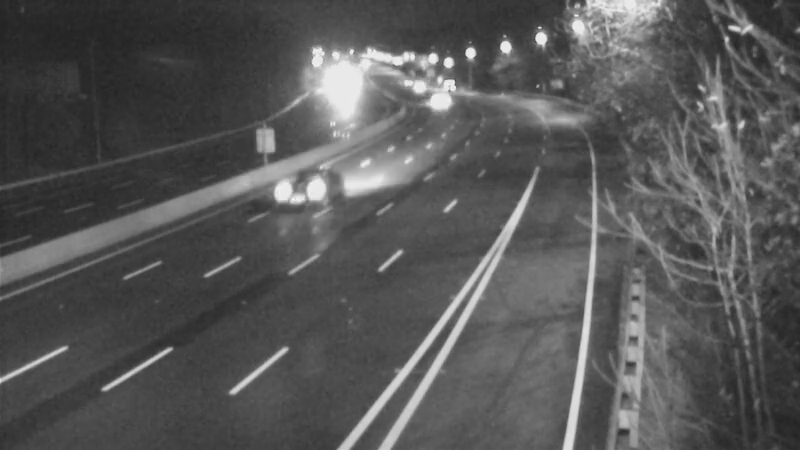vehicle: (267, 156, 347, 236), (420, 62, 470, 112), (391, 61, 441, 111), (421, 76, 471, 126), (315, 68, 365, 118)
